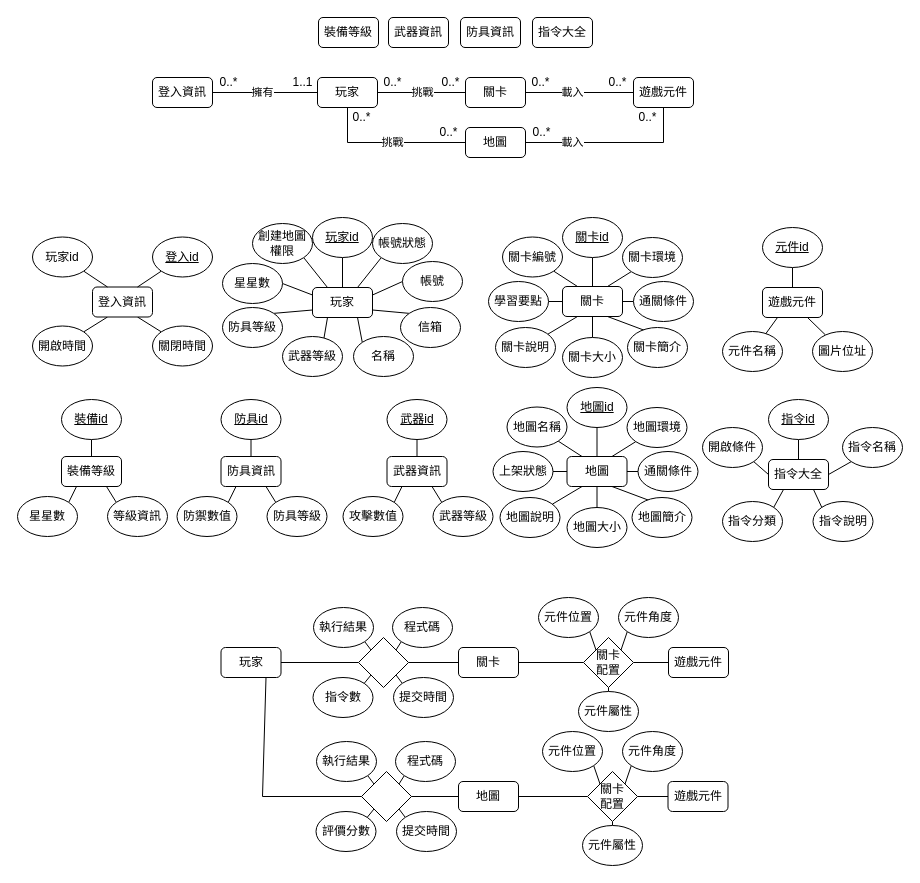
This 920x883 diagram has some shape labels left out. Here are the shapes that lost their labels. From the top down, the centre of each, then its label:
At point (383, 662): "關卡 紀錄".
At point (386, 796): "地圖 紀錄".
